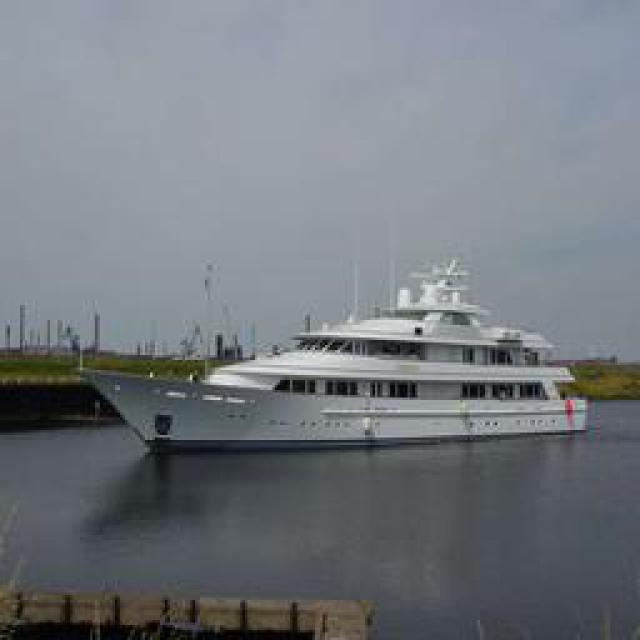Ship: (97, 254, 587, 449)
